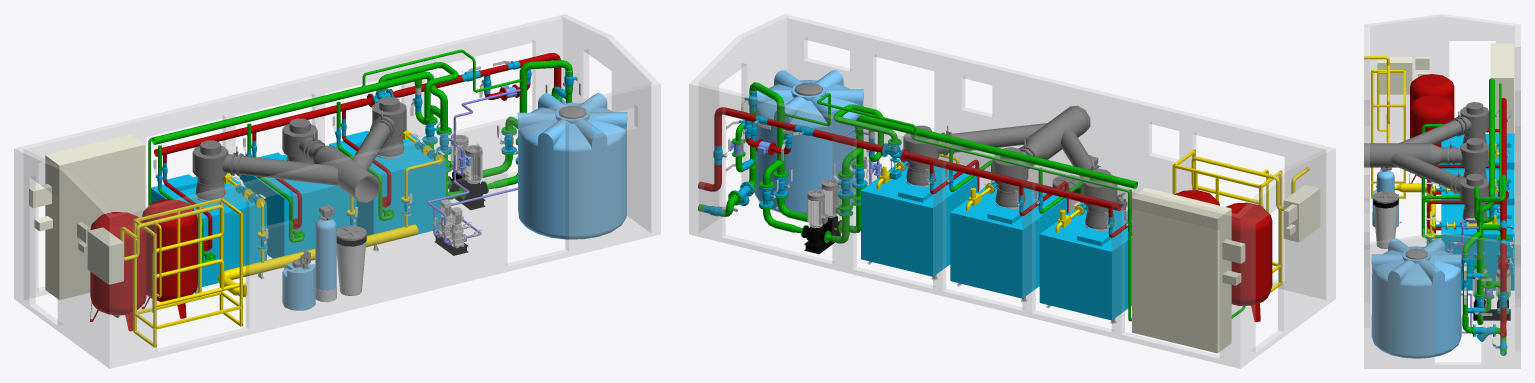
File: Котельная Очер 94-01СБ-02_расстановка оборудования.gltf
3 renders of one model, left to right at view 1: azimuth 30°, elevation 25°; view 2: azimuth 150°, elevation 25°; view 3: azimuth 270°, elevation 25°, orthographic. The views are drawn at different scales.
Size of the model in its own units: 9 by 2.55 by 2.7.
